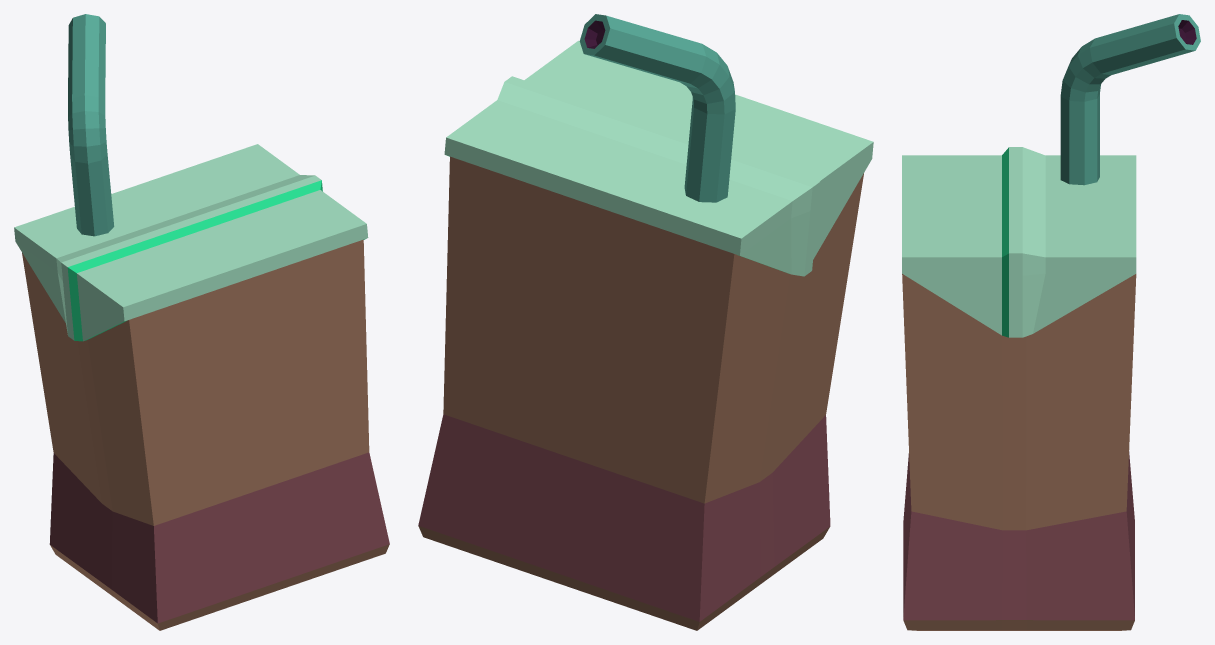
The model's file is FrootBox.CoffeeClean.fbx.
3 renders of one model, left to right at view 1: azimuth 30°, elevation 25°; view 2: azimuth 150°, elevation 25°; view 3: azimuth 270°, elevation 25°, orthographic. The views are drawn at different scales.
Visible parts, largest first — view 1: FrootBox.CoffeeClean; view 2: FrootBox.CoffeeClean; view 3: FrootBox.CoffeeClean.
Boxes of the visible parts, x1,y1,x2,y2 form: FrootBox.CoffeeClean: (14, 14, 389, 630); FrootBox.CoffeeClean: (418, 14, 873, 630); FrootBox.CoffeeClean: (902, 14, 1200, 630).
Bounding box in the file's own units: 45.09 × 81.23 × 39.82.
